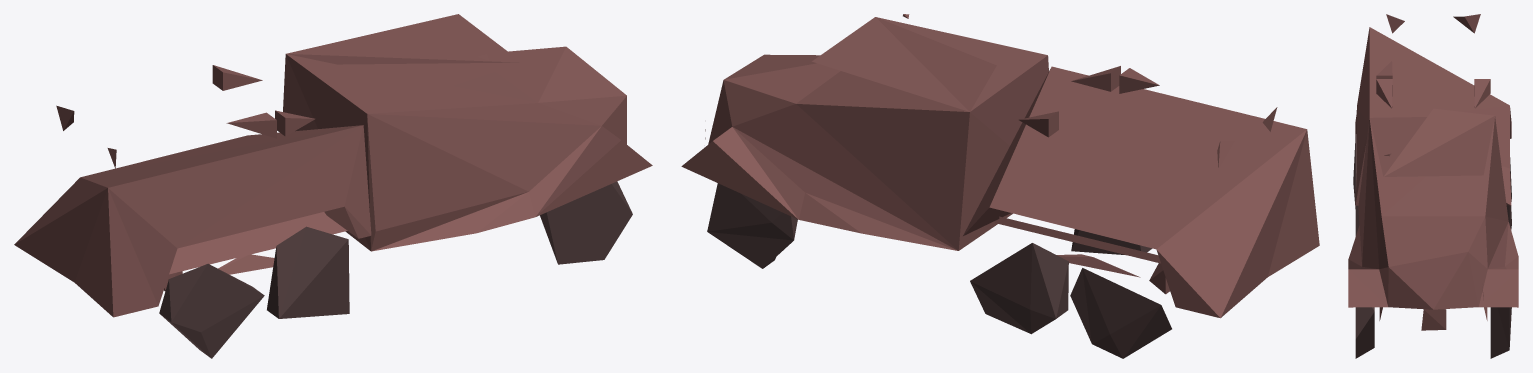
Rendered from fire-truck.lod2.glb.
3 views of the same model, side by side, from view 1: azimuth 30°, elevation 25°; view 2: azimuth 150°, elevation 25°; view 3: azimuth 270°, elevation 25° (orthographic). The views are drawn at different scales.
Visible parts, largest first — view 1: Object_3; view 2: Object_3; view 3: Object_3.
Boxes of the visible parts, x1,y1,x2,y2 form: Object_3: (14,14,652,358); Object_3: (681,14,1319,358); Object_3: (1348,14,1518,358).
Bounding box in the file's own units: 6.77 × 2.54 × 2.3.
